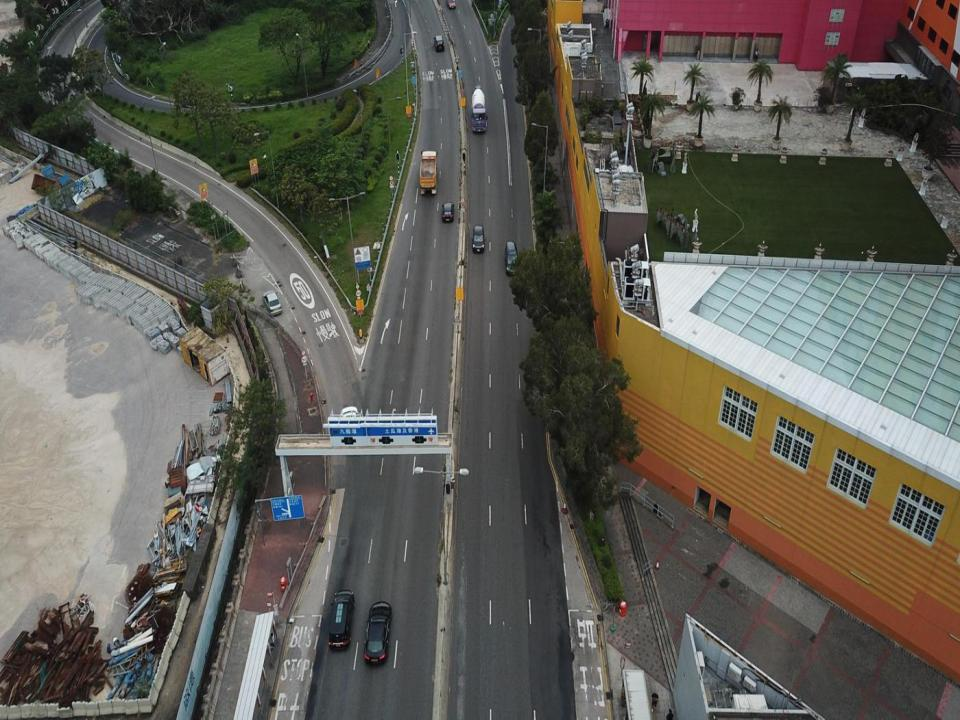car: (363, 601, 393, 666), (328, 588, 356, 650), (262, 287, 282, 317), (505, 239, 518, 277), (470, 224, 485, 253), (441, 201, 454, 222), (432, 34, 446, 53), (448, 0, 455, 9)
truck: (470, 82, 489, 134), (418, 149, 438, 195)
